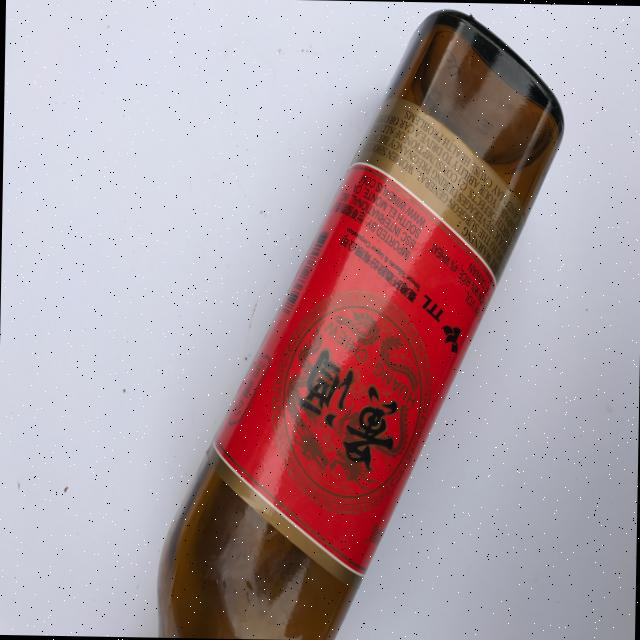glass: (154, 3, 566, 640)
